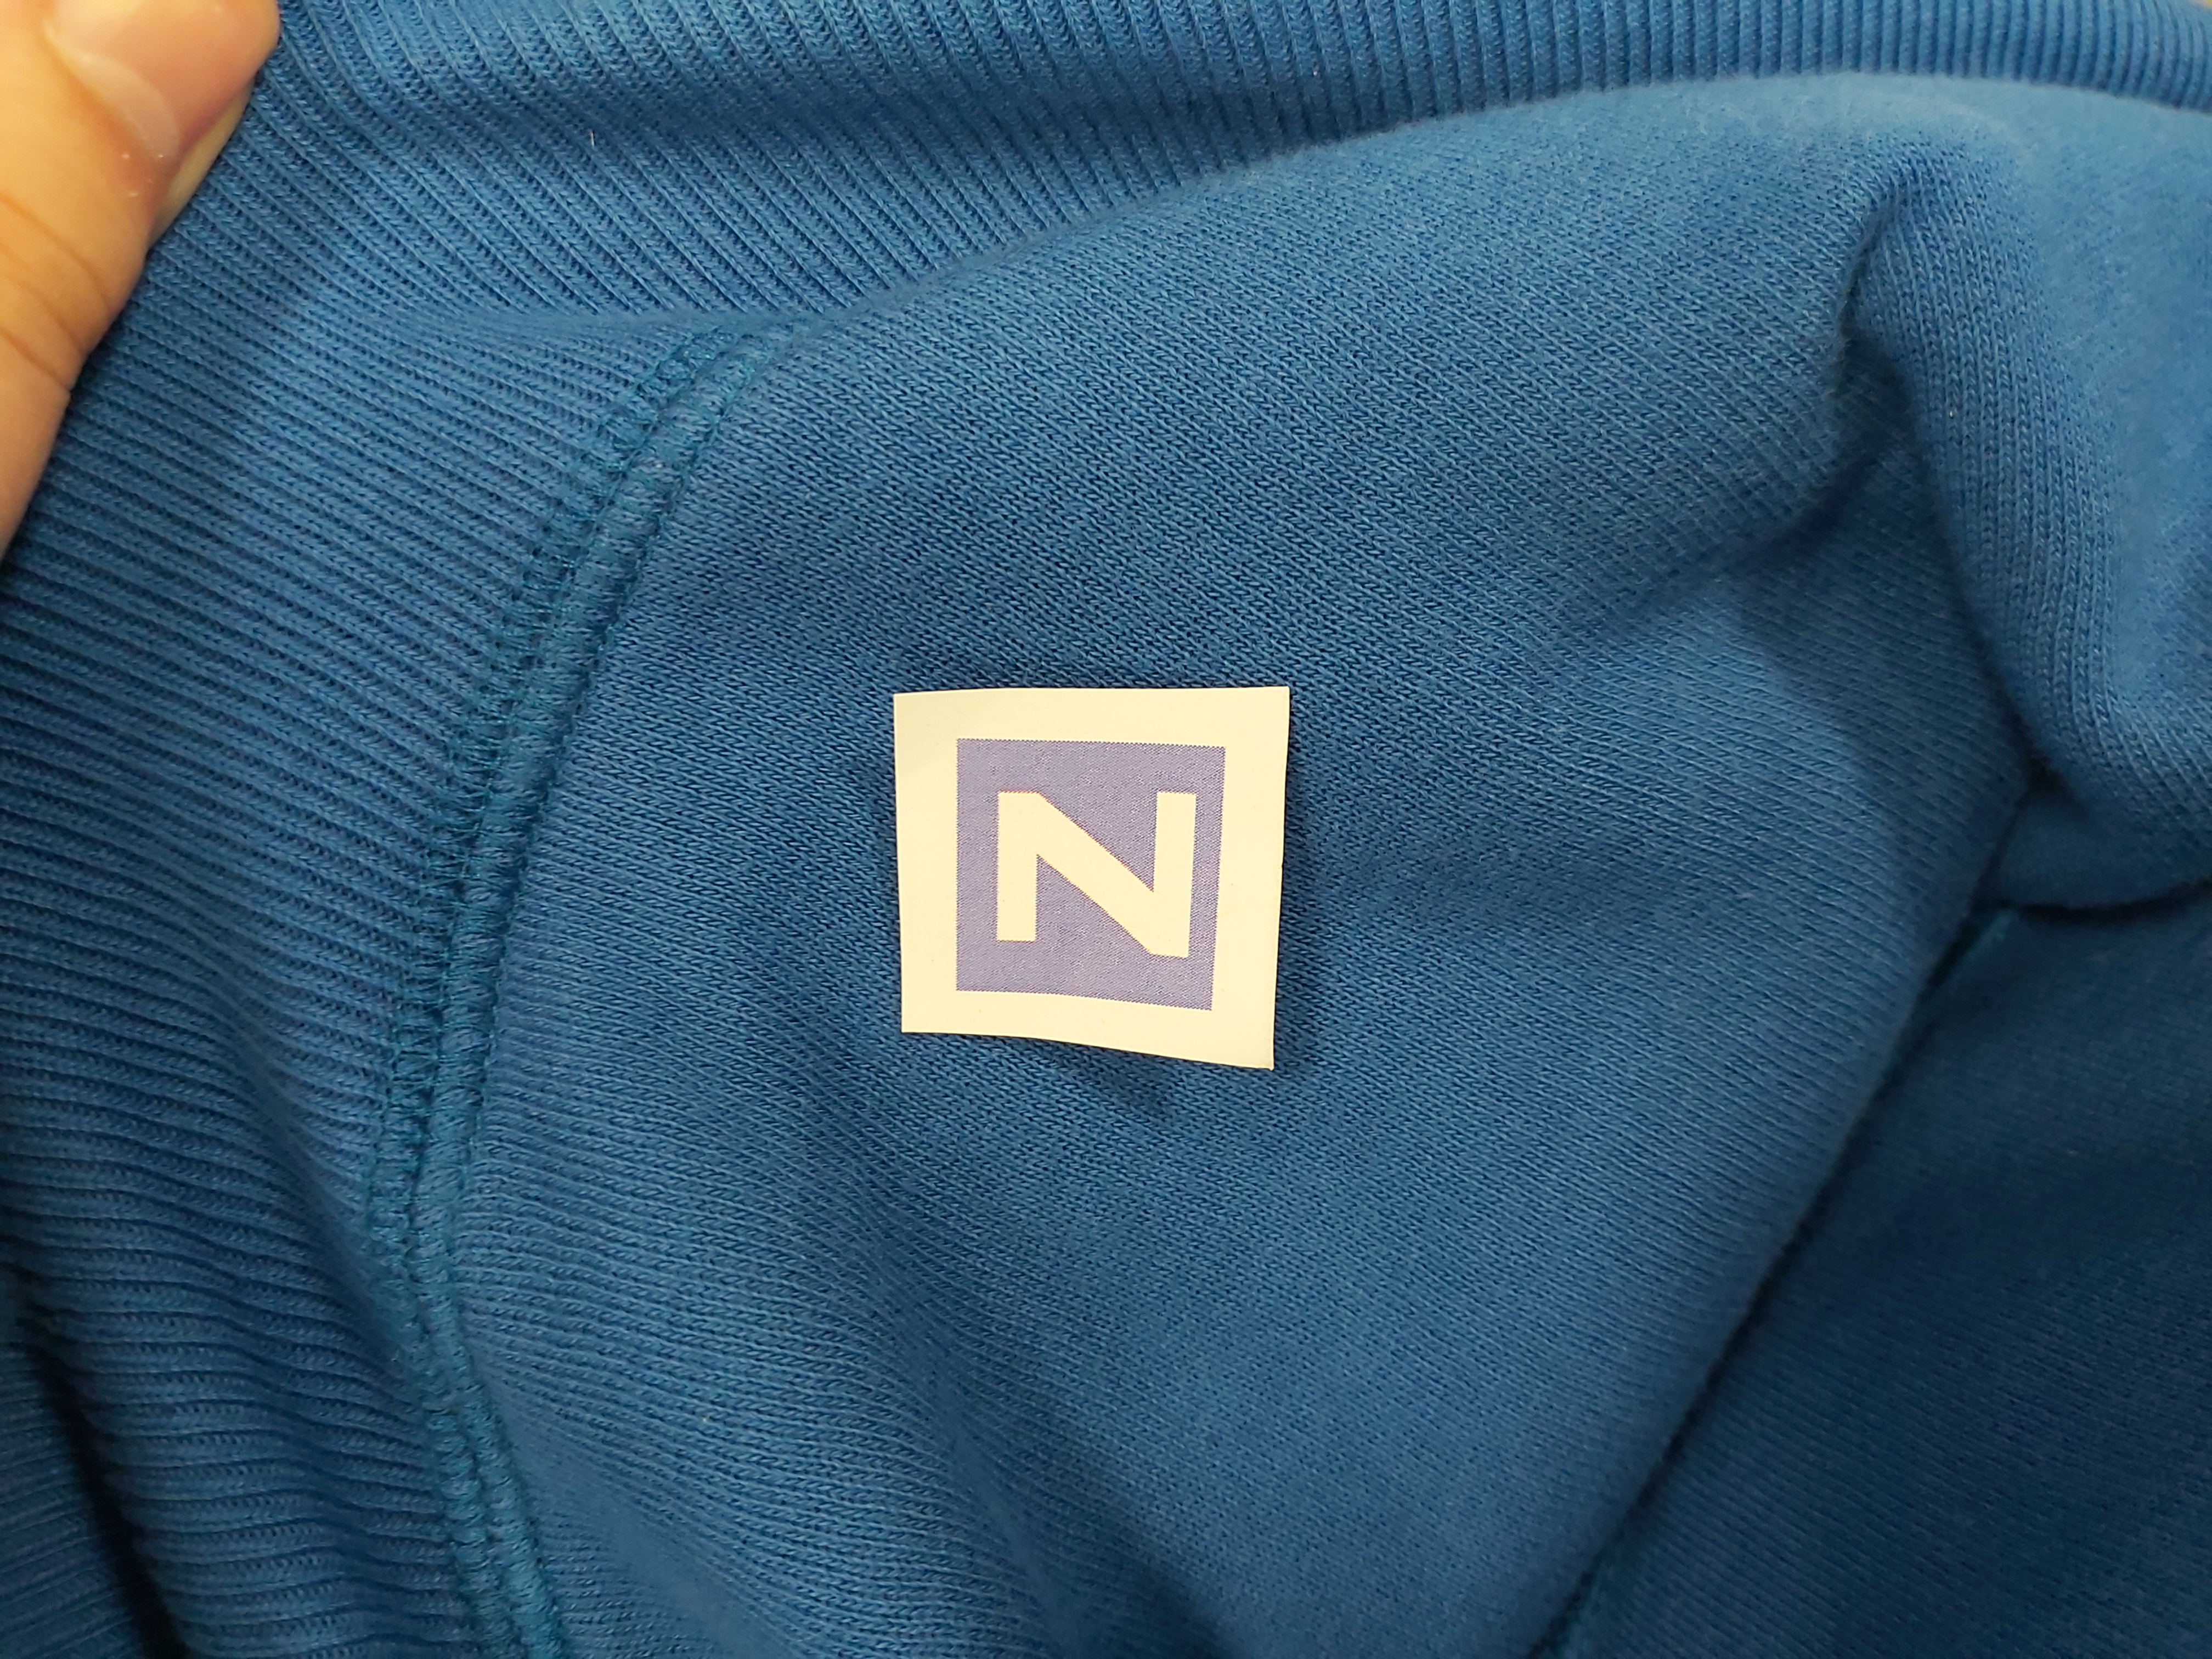blue marker: (867, 659, 1301, 1087)
